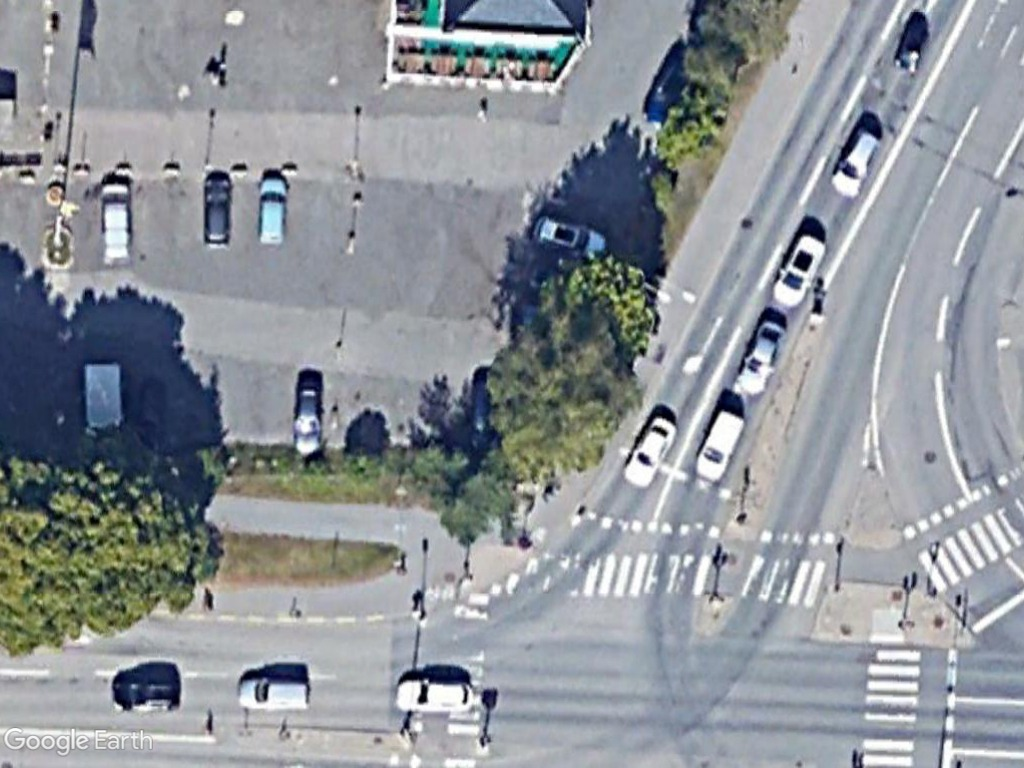car: (767, 224, 833, 310), (731, 315, 791, 399), (616, 408, 678, 488), (827, 124, 890, 202), (529, 204, 612, 260), (391, 673, 481, 719), (232, 670, 318, 717), (249, 170, 294, 252), (107, 672, 189, 717), (197, 170, 238, 253)
van: (691, 404, 750, 487), (91, 174, 136, 255)
